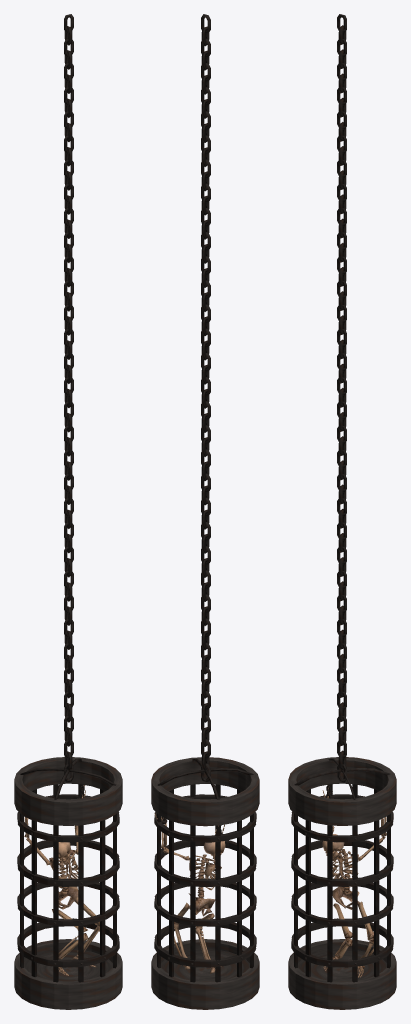
The model's file is mm6_deco_hngncge2_long.glb.
3 renders of one model, left to right at view 1: azimuth 30°, elevation 25°; view 2: azimuth 150°, elevation 25°; view 3: azimuth 330°, elevation 25°, orthographic.
Parts seen in each view (by area): view 1: Hngncge2_long; view 2: Hngncge2_long; view 3: Hngncge2_long.
Boxes of the visible parts, x1,y1,x2,y2 form: Hngncge2_long: [14, 14, 122, 1009]; Hngncge2_long: [151, 14, 259, 1009]; Hngncge2_long: [288, 14, 396, 1009].
Bounding box in the file's own units: 1.43 × 14.18 × 1.43.
3 materials, 3 textured.
